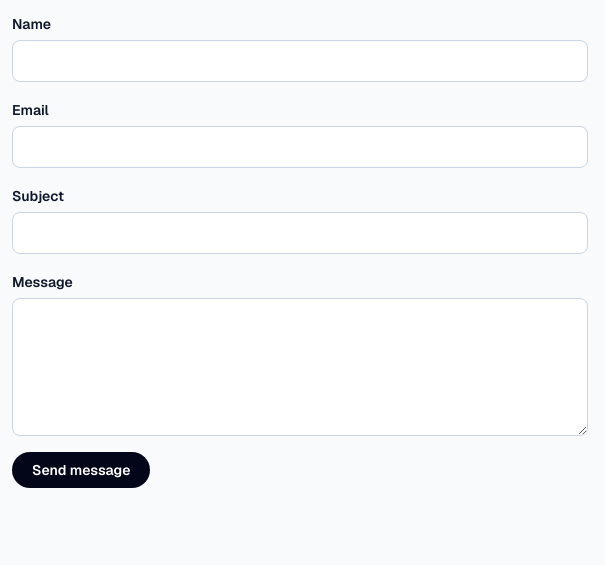
Test: shows server field errors next to the right field and keeps typed values
Type "Grace" into the field labelled "Name".
click(300, 61); type("Grace")  # box [12,40,588,82]
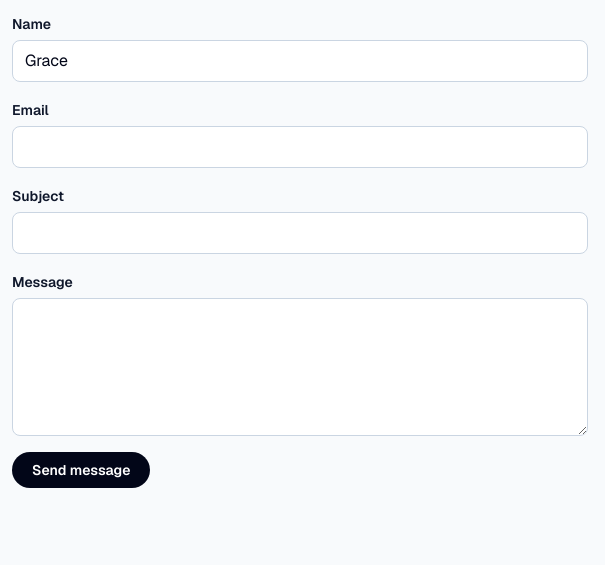
Type "bad" into the field labelled "Email".
click(300, 147); type("bad")  # box [12,126,588,168]
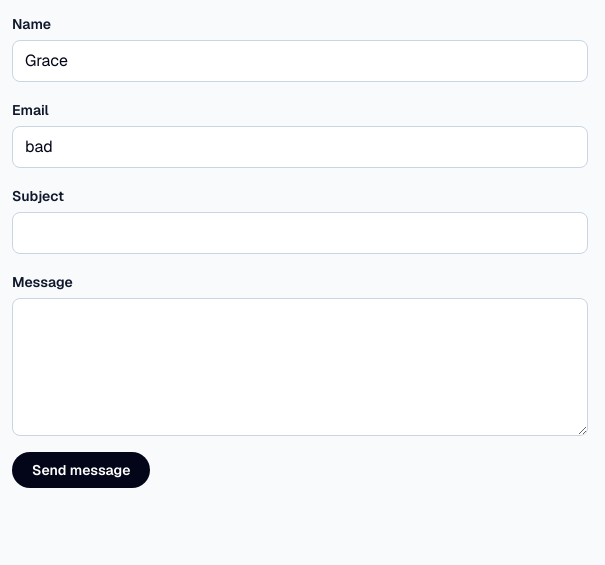
Type "Hi" into the field labelled "Subject".
click(300, 233); type("Hi")  # box [12,212,588,254]
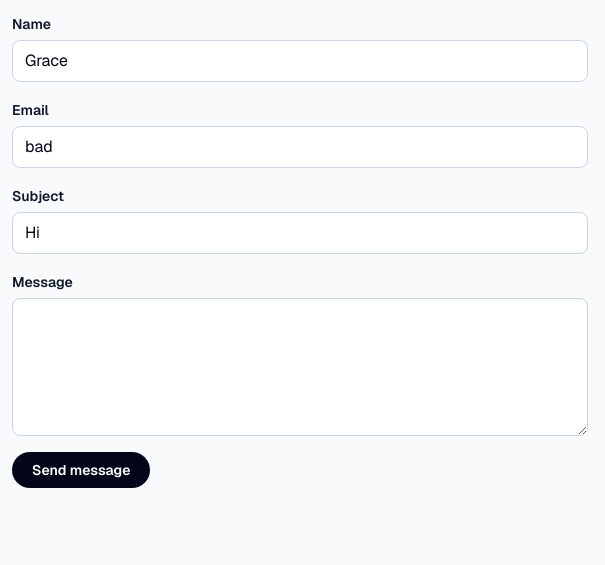
Type "Hello" into the text box labelled "Message".
click(300, 367); type("Hello")  # box [12,298,588,436]
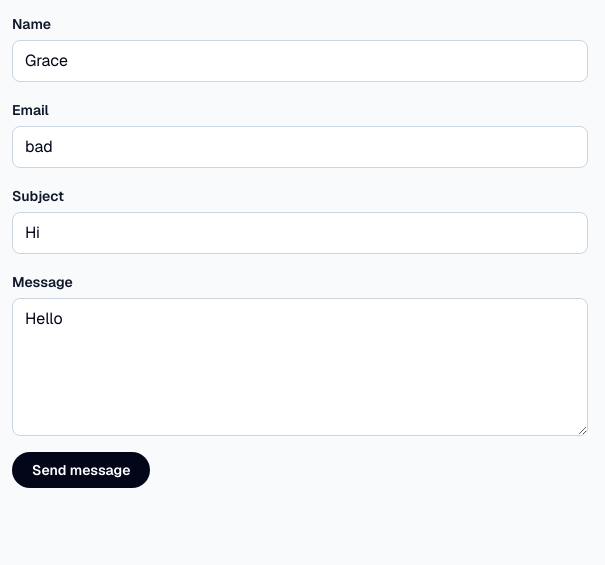
Submit the form "Name Email Subject Message Send message"
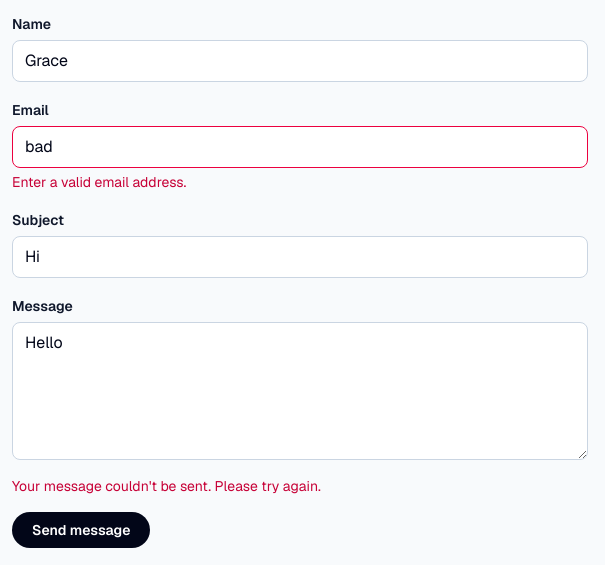
Now the text "Enter a valid email address." is shown, box [12,173,186,191]
